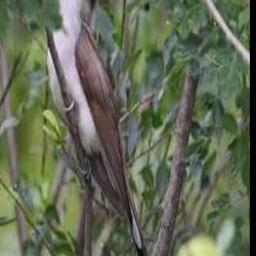Cuckoo: (48, 0, 145, 255)
